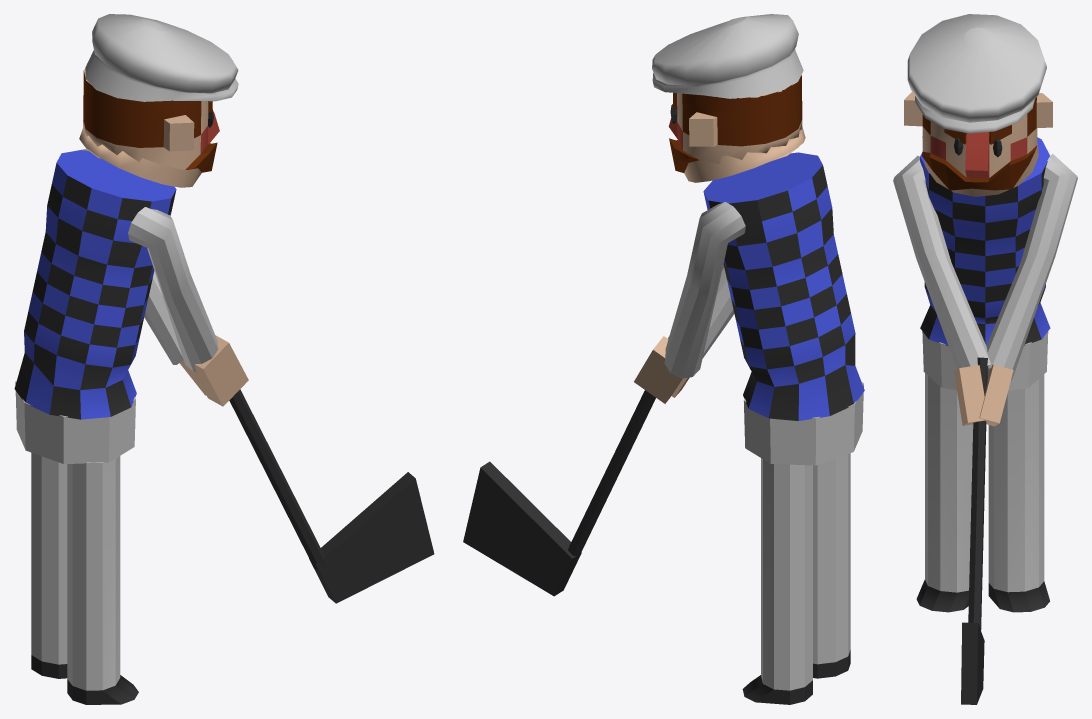
The model's file is md_golfman.fbx.
3 renders of one model, left to right at view 1: azimuth 30°, elevation 25°; view 2: azimuth 150°, elevation 25°; view 3: azimuth 270°, elevation 25°, orthographic. The views are drawn at different scales.
Visible parts, largest first — view 1: pCylinder45; view 2: pCylinder45; view 3: pCylinder45.
Boxes of the visible parts, <box> form: pCylinder45: <box>14,14,434,704</box>; pCylinder45: <box>463,14,864,704</box>; pCylinder45: <box>893,14,1077,704</box>.
Bounding box in the file's own units: 1.91 × 2.96 × 0.8307.
